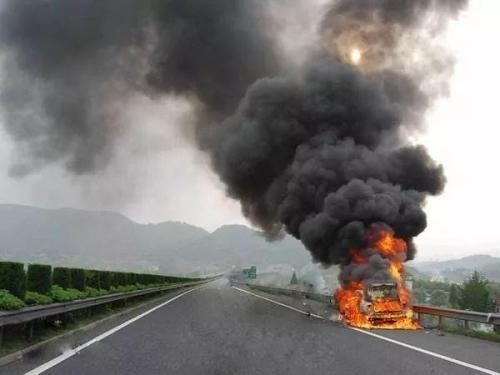fire: (332, 228, 421, 332)
